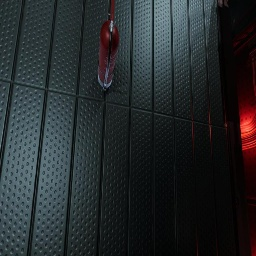FireExtinguisher ]: (98, 0, 119, 91)
